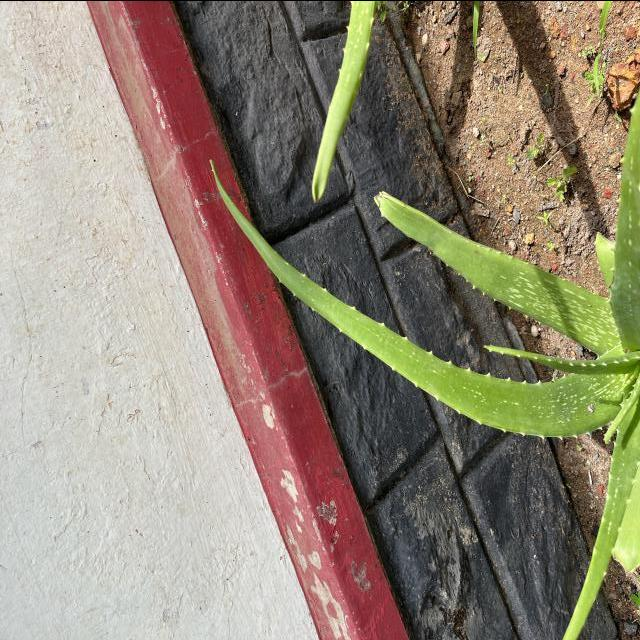Aloe vera: (368, 187, 612, 356)
